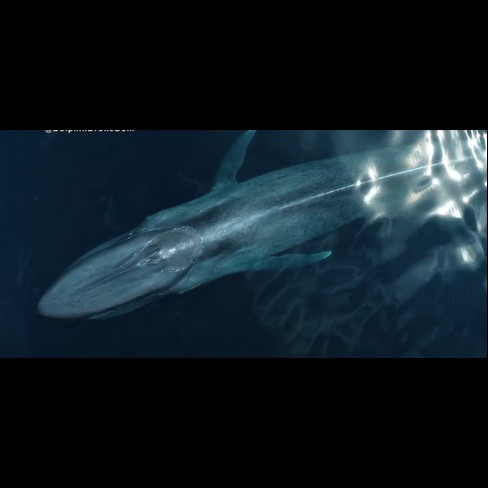bluewhale: (35, 131, 487, 327)
